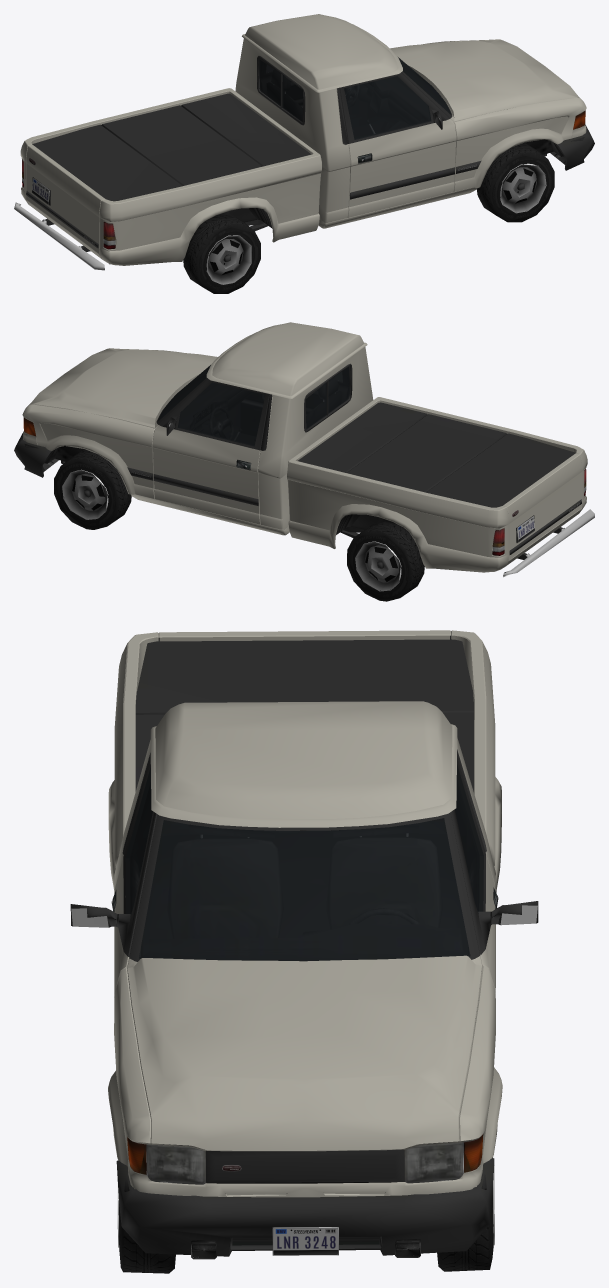
Rendered from car_pickup.glb.
The picture shows the model from 3 angles, top to bottom: view 1: azimuth 30°, elevation 25°; view 2: azimuth 150°, elevation 25°; view 3: azimuth 270°, elevation 25°; orthographic projection. The views are drawn at different scales.
Visible parts, largest first — view 1: CnqerP89_Body_CnqerP89_Bodymat_0, CnqerP89_front_bumper_UCB_BOTTOM_0, CnqerP89_WheelStock_FL_RB1c_Tire_1k_0, CnqerP89_Rear_glass_UCB_Lights_and_Glass_Transperent_0, CnqerP89_Interior_UCB_Interiors_2_0, CnqerP89_Headlights_UCB_Lights_and_Glass_0; view 2: CnqerP89_Body_CnqerP89_Bodymat_0, CnqerP89_front_bumper_UCB_BOTTOM_0, CnqerP89_WheelStock_FL_RB1c_Tire_1k_0, CnqerP89_Rear_glass_UCB_Lights_and_Glass_Transperent_0, CnqerP89_Interior_UCB_Interiors_2_0, CnqerP89_Headlights_UCB_Lights_and_Glass_0; view 3: CnqerP89_Body_CnqerP89_Bodymat_0, CnqerP89_front_bumper_UCB_BOTTOM_0, CnqerP89_Rear_glass_UCB_Lights_and_Glass_Transperent_0, CnqerP89_Interior_UCB_Interiors_2_0, CnqerP89_Headlights_UCB_Lights_and_Glass_0, CnqerP89_WheelStock_FL_RB1c_Tire_1k_0, CnqerP89_NP_Stock_Rear_Numberplates_Misk_U_0.
Part boxes in pixels (<box>): CnqerP89_Body_CnqerP89_Bodymat_0: <box>20,14,586,265</box>; CnqerP89_front_bumper_UCB_BOTTOM_0: <box>14,56,594,270</box>; CnqerP89_WheelStock_FL_RB1c_Tire_1k_0: <box>183,143,554,293</box>; CnqerP89_Rear_glass_UCB_Lights_and_Glass_Transperent_0: <box>22,57,585,249</box>; CnqerP89_Interior_UCB_Interiors_2_0: <box>261,61,450,138</box>; CnqerP89_Headlights_UCB_Lights_and_Glass_0: <box>22,111,584,248</box>; CnqerP89_Body_CnqerP89_Bodymat_0: <box>22,322,587,572</box>; CnqerP89_front_bumper_UCB_BOTTOM_0: <box>14,363,594,577</box>; CnqerP89_WheelStock_FL_RB1c_Tire_1k_0: <box>54,450,424,601</box>; CnqerP89_Rear_glass_UCB_Lights_and_Glass_Transperent_0: <box>23,365,586,555</box>; CnqerP89_Interior_UCB_Interiors_2_0: <box>158,368,352,444</box>; CnqerP89_Headlights_UCB_Lights_and_Glass_0: <box>24,418,585,555</box>; CnqerP89_Body_CnqerP89_Bodymat_0: <box>108,630,502,1197</box>; CnqerP89_front_bumper_UCB_BOTTOM_0: <box>70,635,538,1259</box>; CnqerP89_Rear_glass_UCB_Lights_and_Glass_Transperent_0: <box>125,764,483,1184</box>; CnqerP89_Interior_UCB_Interiors_2_0: <box>130,781,478,960</box>; CnqerP89_Headlights_UCB_Lights_and_Glass_0: <box>127,1134,483,1183</box>; CnqerP89_WheelStock_FL_RB1c_Tire_1k_0: <box>117,1153,494,1273</box>; CnqerP89_NP_Stock_Rear_Numberplates_Misk_U_0: <box>272,1227,338,1255</box>.
Bounding box in the file's own units: 5.22 × 1.85 × 2.08.
Materials: 8 (7 with a texture image).
